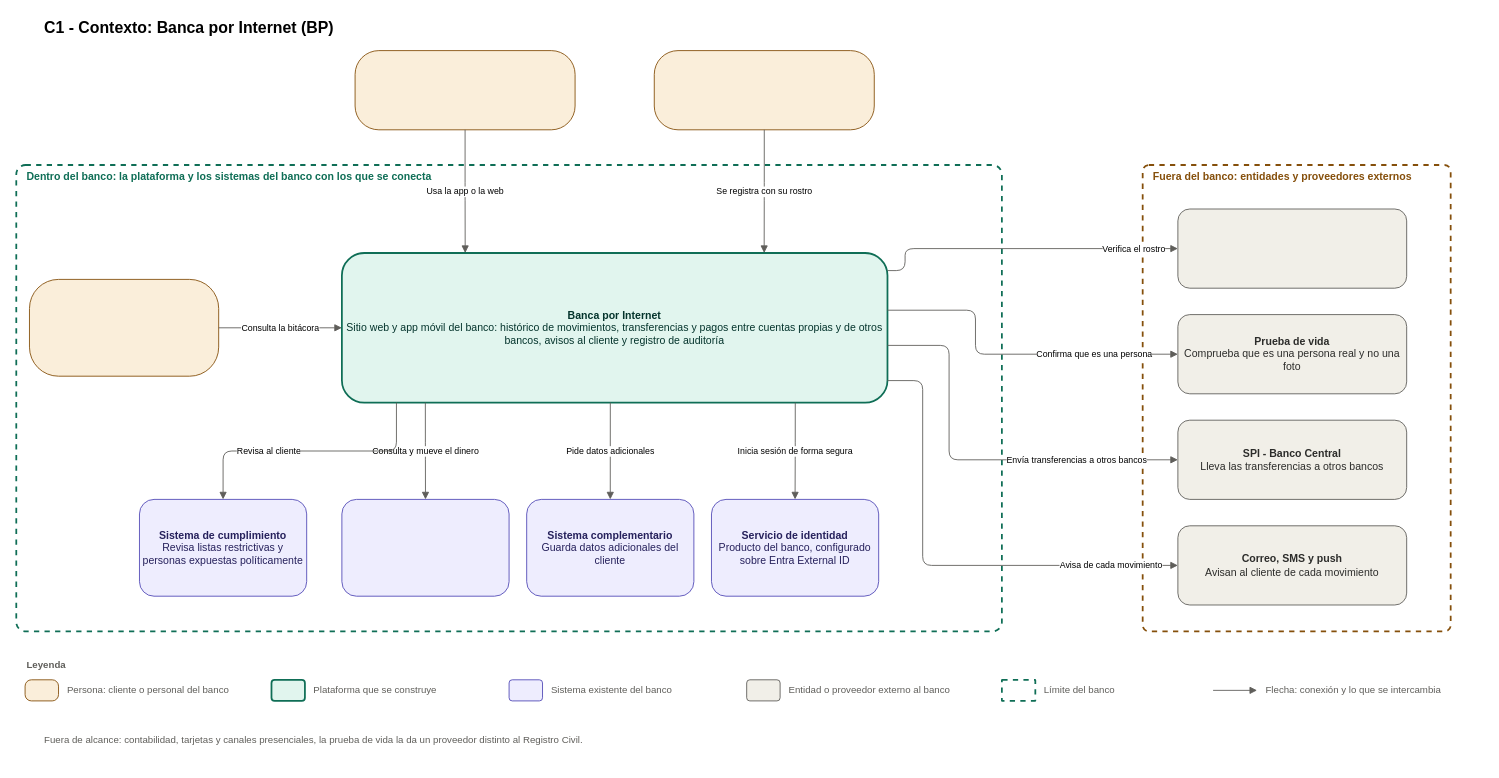
Some shapes in this 1499 by 778 pixel diagram are drawn without their labels. The centre of each missing label's shape, as x and y in pixels:
Auditor / Seguridad Personal del banco. Revisa quién hizo qué y atiende alertas: (124,327)
Cliente Consulta sus movimientos, transfiere y paga desde la web o la app: (464,90)
Cliente nuevo Se registra desde la app con la foto de su rostro: (763,90)
Core bancario Donde viven las cuentas, saldos y movimientos: (425,547)
Registro Civil Confirma que el rostro corresponde a la cédula: (1292,248)
